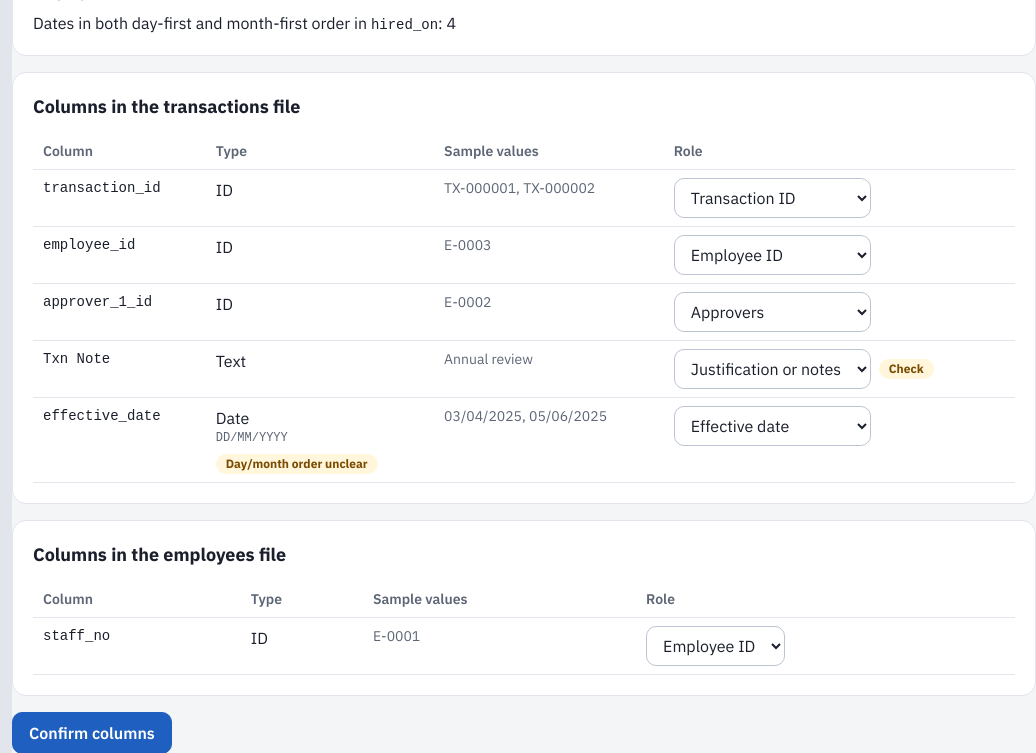
Test case: DatasetPage › confirms the roles as chosen
(page scrolled)
Select "Not used" in the dropdown named "Role of Txn Note" at (772, 369), box [674,349,871,389]
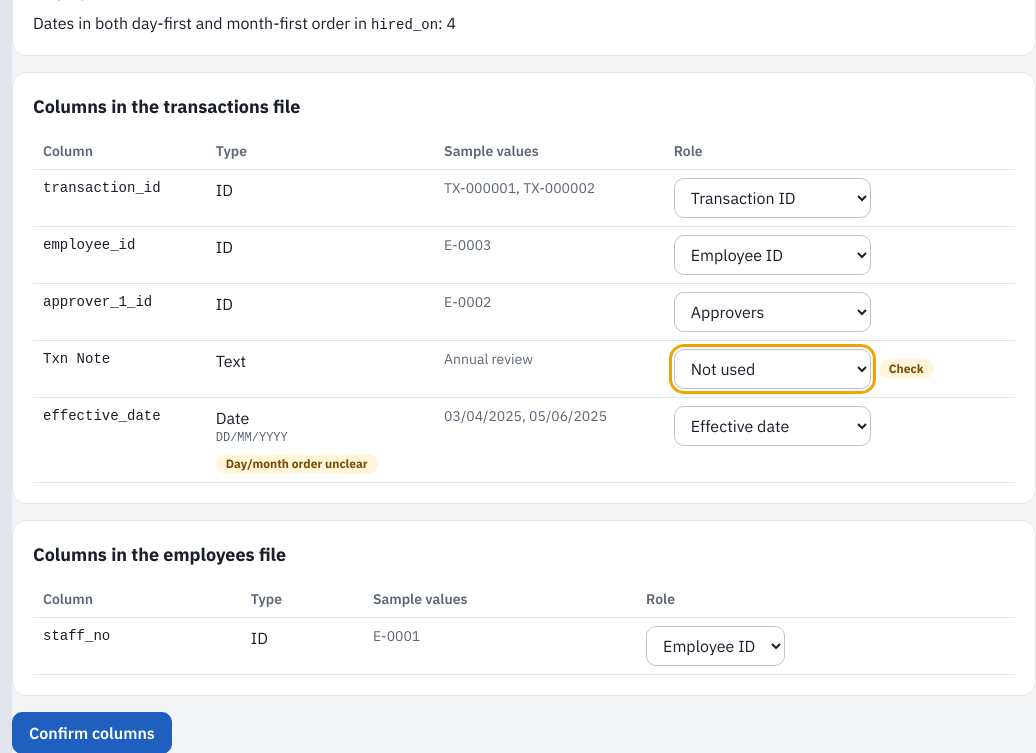
Click the button "Confirm columns" at (92, 733), box [12,712,172,752]
(page scrolled)
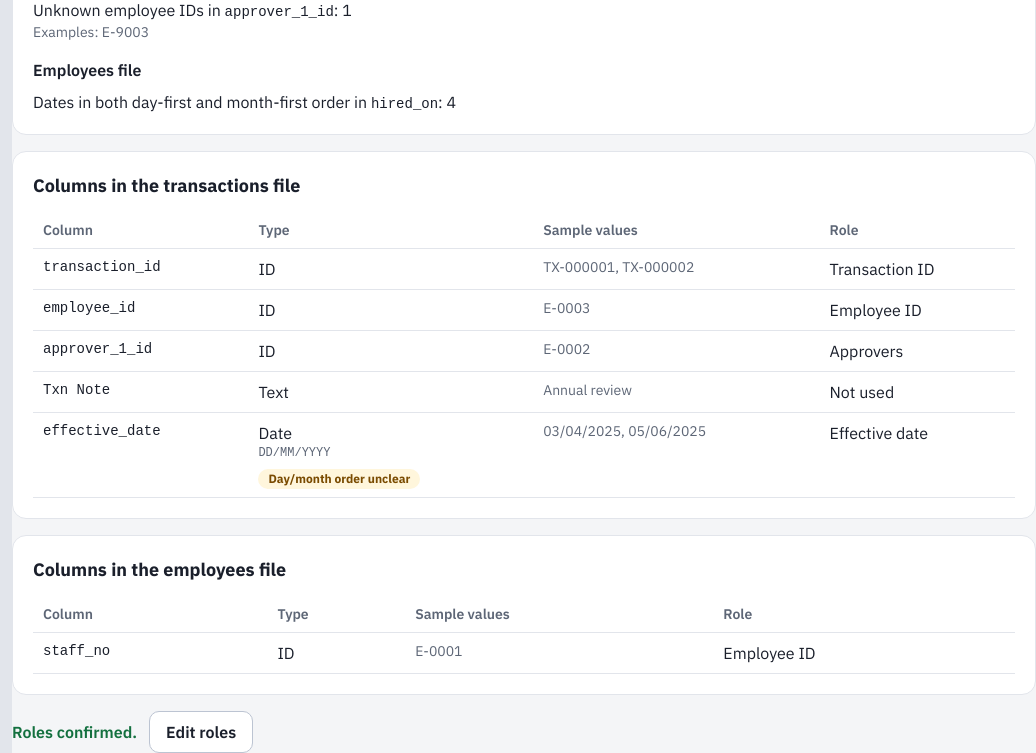
Check: the button "Edit roles" is shown, box [149,711,253,752]
Check: the text "Roles confirmed." is shown, box [12,720,137,744]
Check: the dropdown is gone
